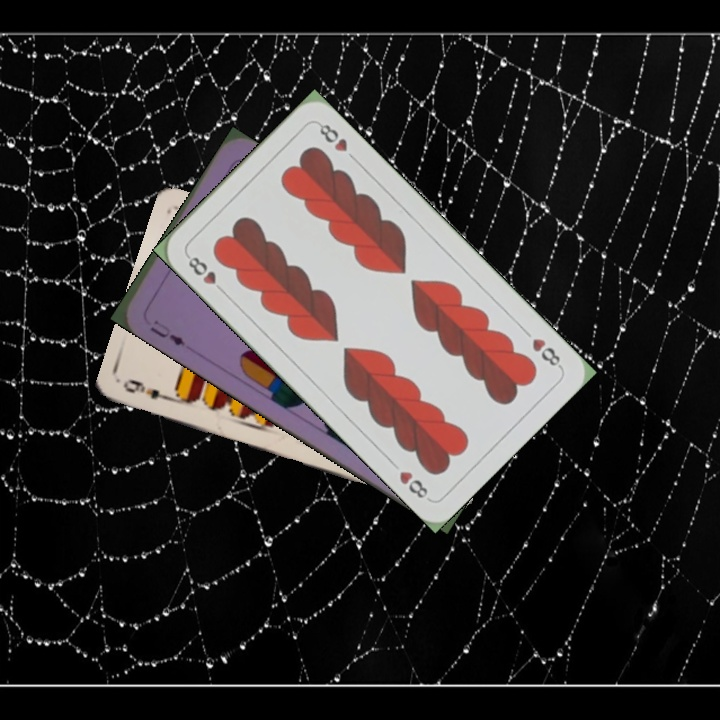E9: (118, 375, 176, 405)
EU: (146, 316, 188, 349)
H8: (182, 250, 229, 297), (528, 334, 565, 371)
